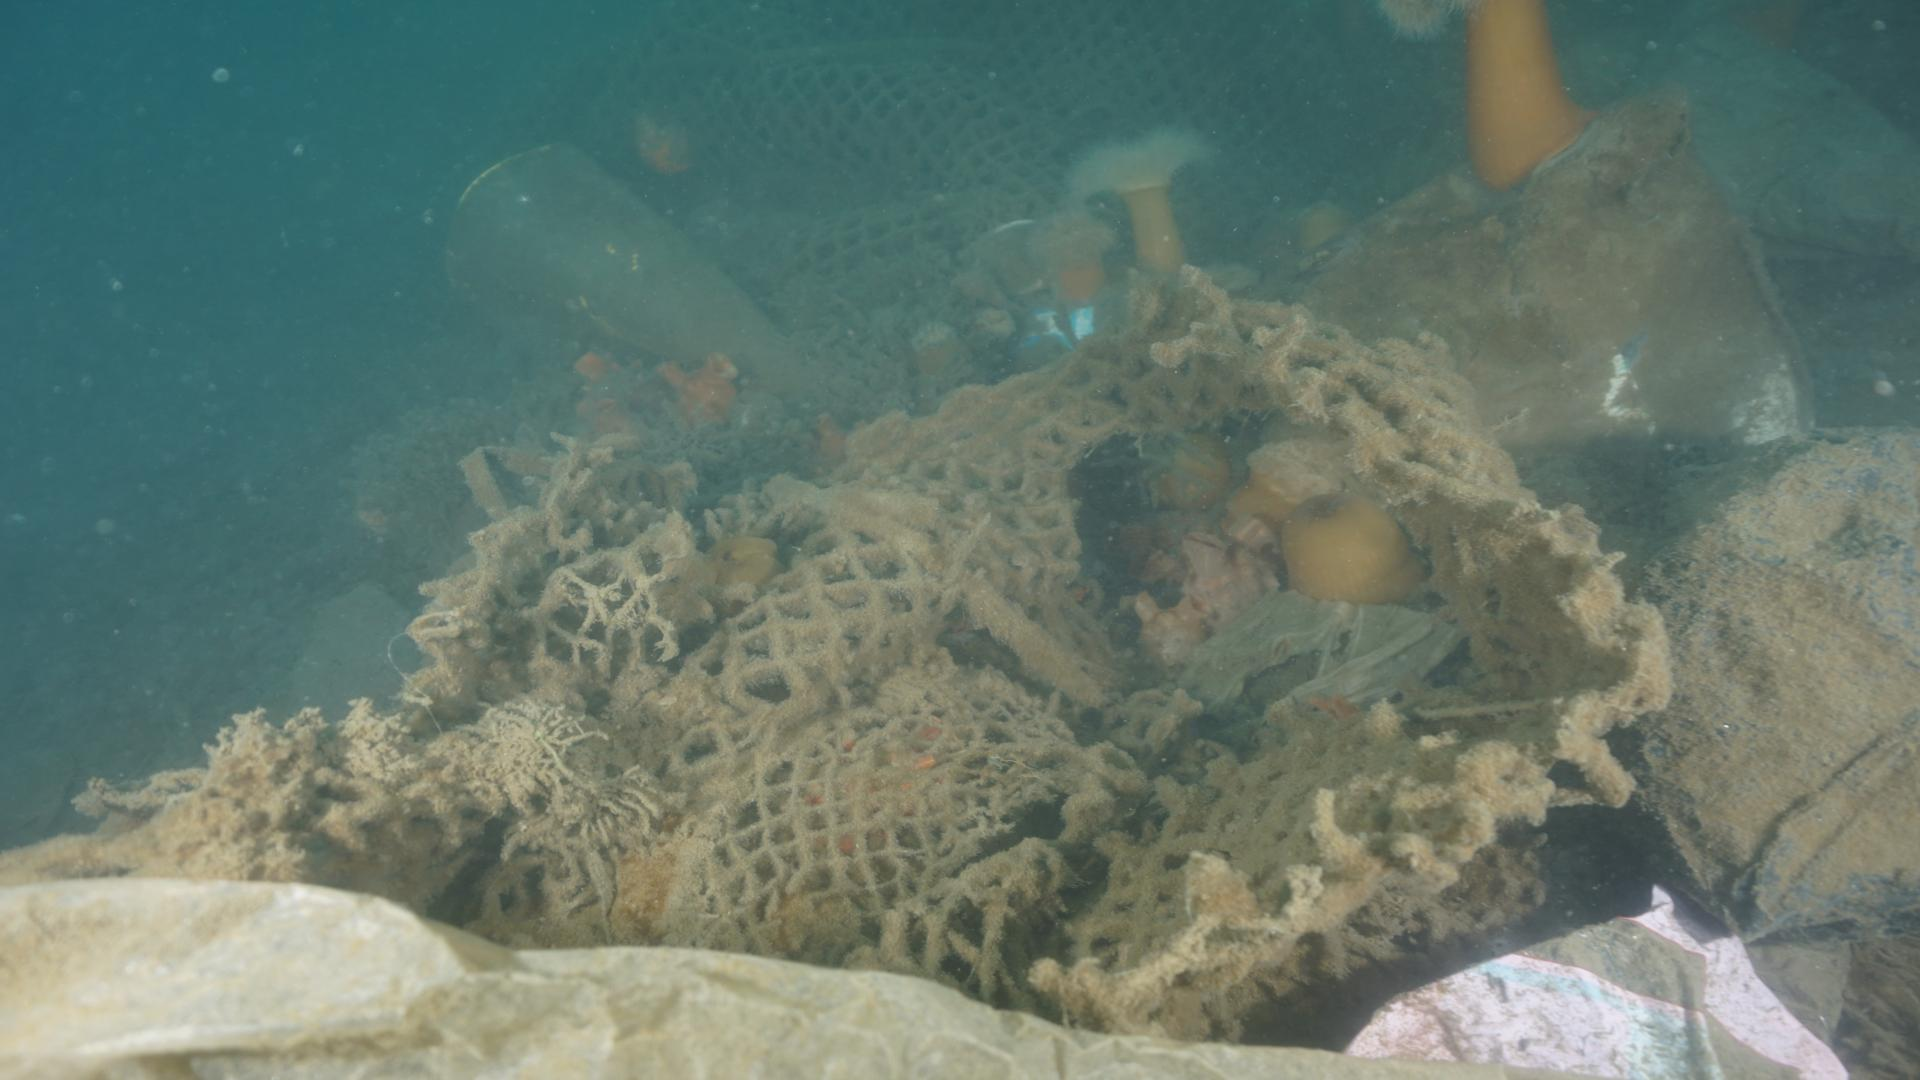fish net: (454, 302, 1386, 1026), (570, 0, 1353, 331)
